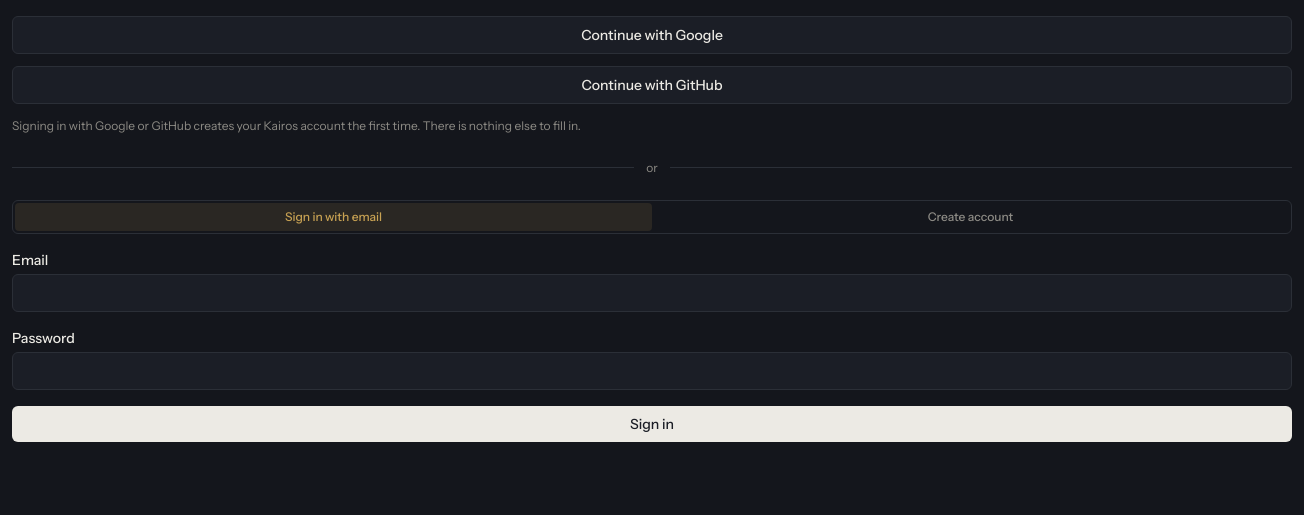
it: creating an account › does not reveal that an address is already registered
This screenshot has width=1304, height=515.
Click the tab "Create account".
click(970, 216)  # box 652,202 -> 1289,230
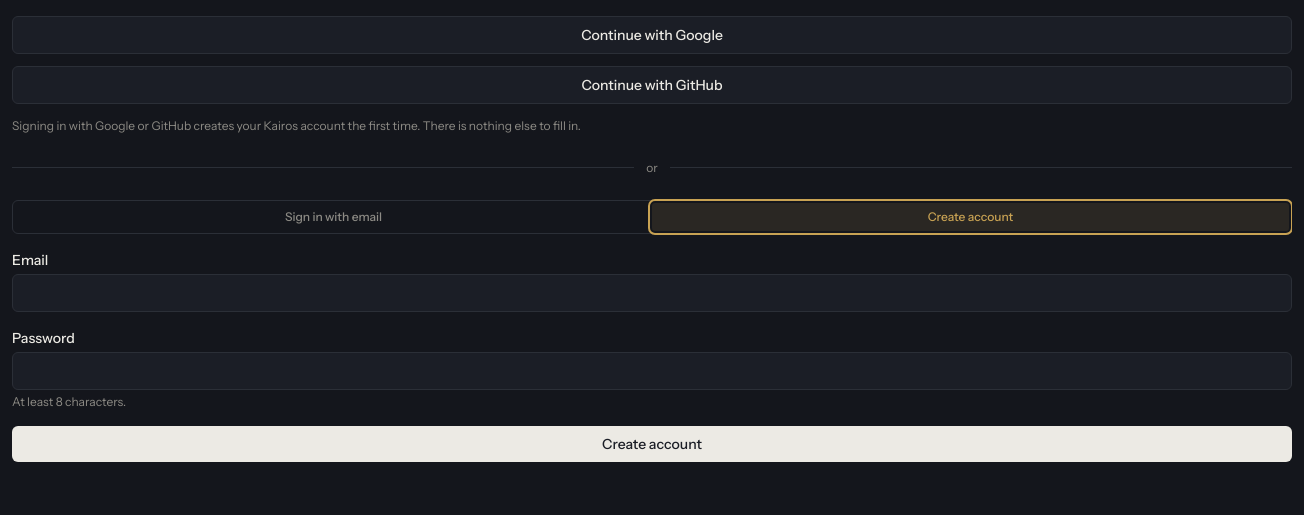
Type "taken@example.com" into the field labelled "Email".
click(652, 292); type("taken@example.com")  # box 12,274 -> 1292,312
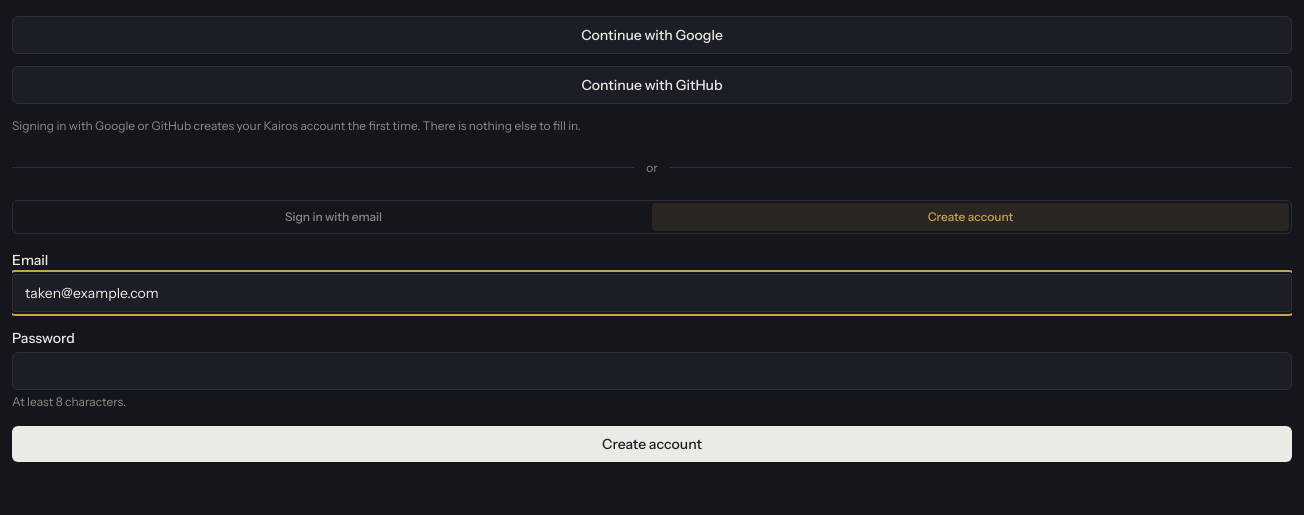
Type "correct-horse-battery" into the password field labelled "Password".
click(652, 370); type("correct-horse-battery")  # box 12,352 -> 1292,390
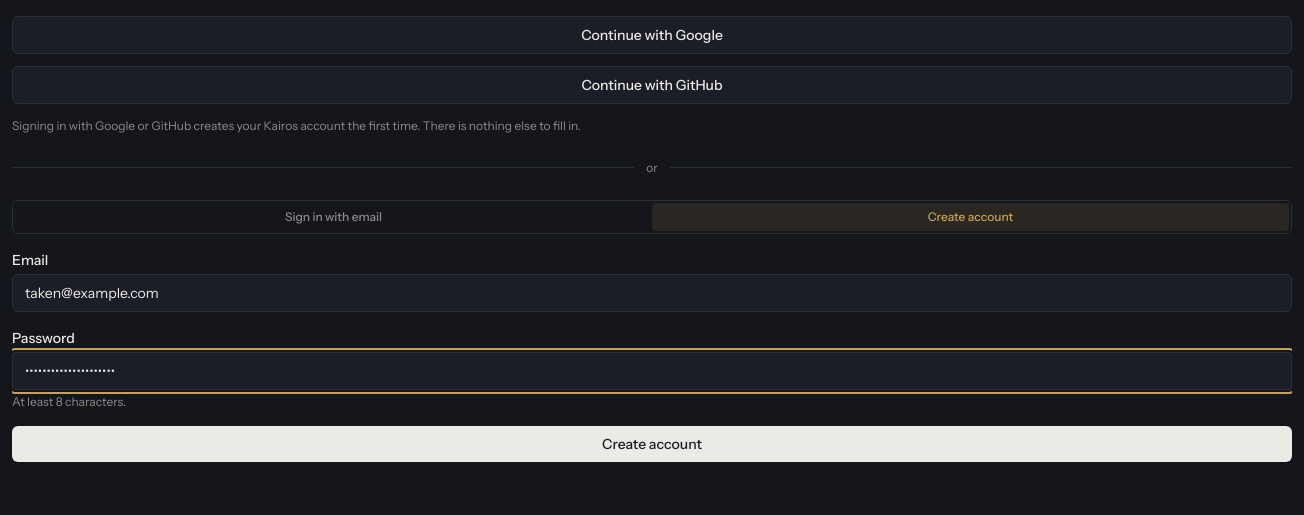
Click the button "Create account".
click(652, 444)  # box 12,426 -> 1292,462
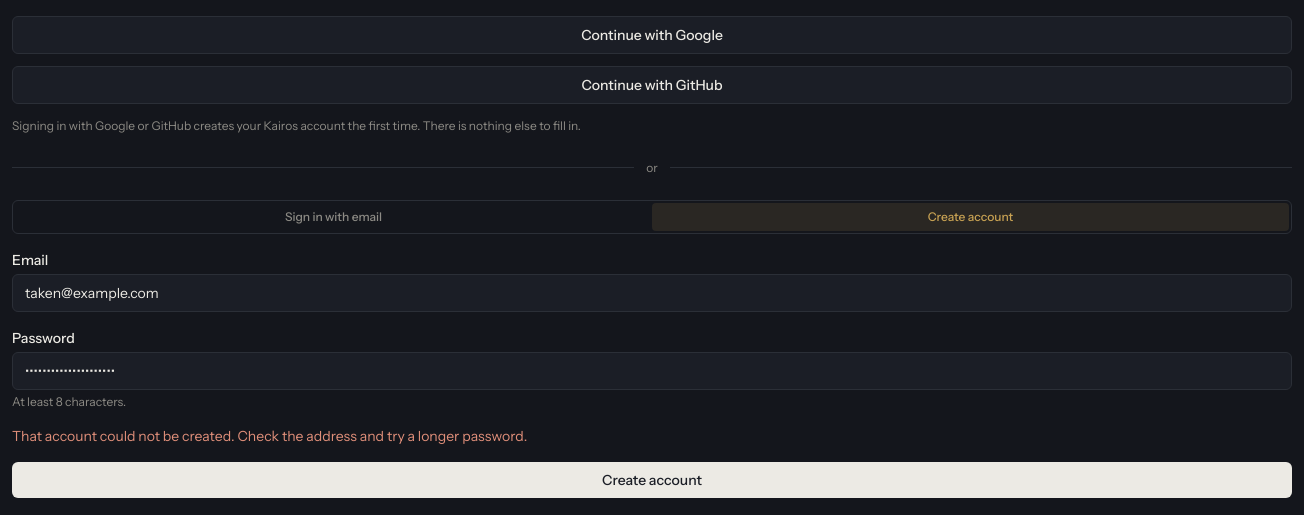
Check: the message reads "That account could not be created. Check the address and try a longer password.", box 12,426 -> 527,444
